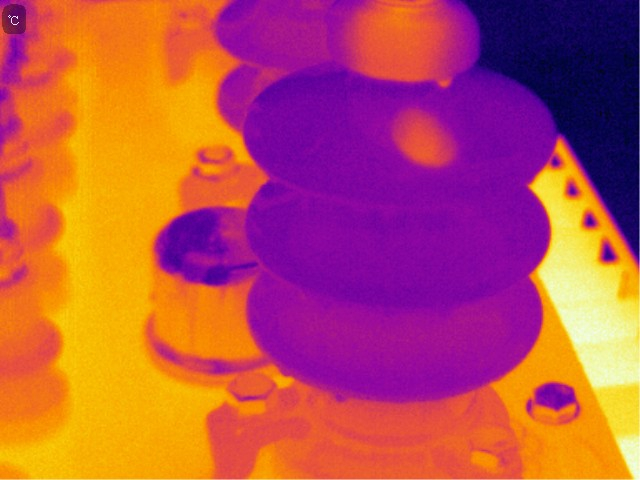Oil: (349, 1, 464, 91), (391, 105, 463, 173), (332, 386, 349, 405)
